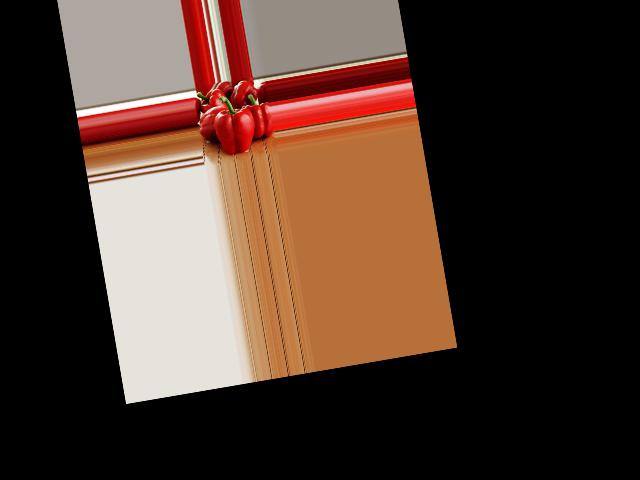bell_pepper: (194, 86, 227, 115)
